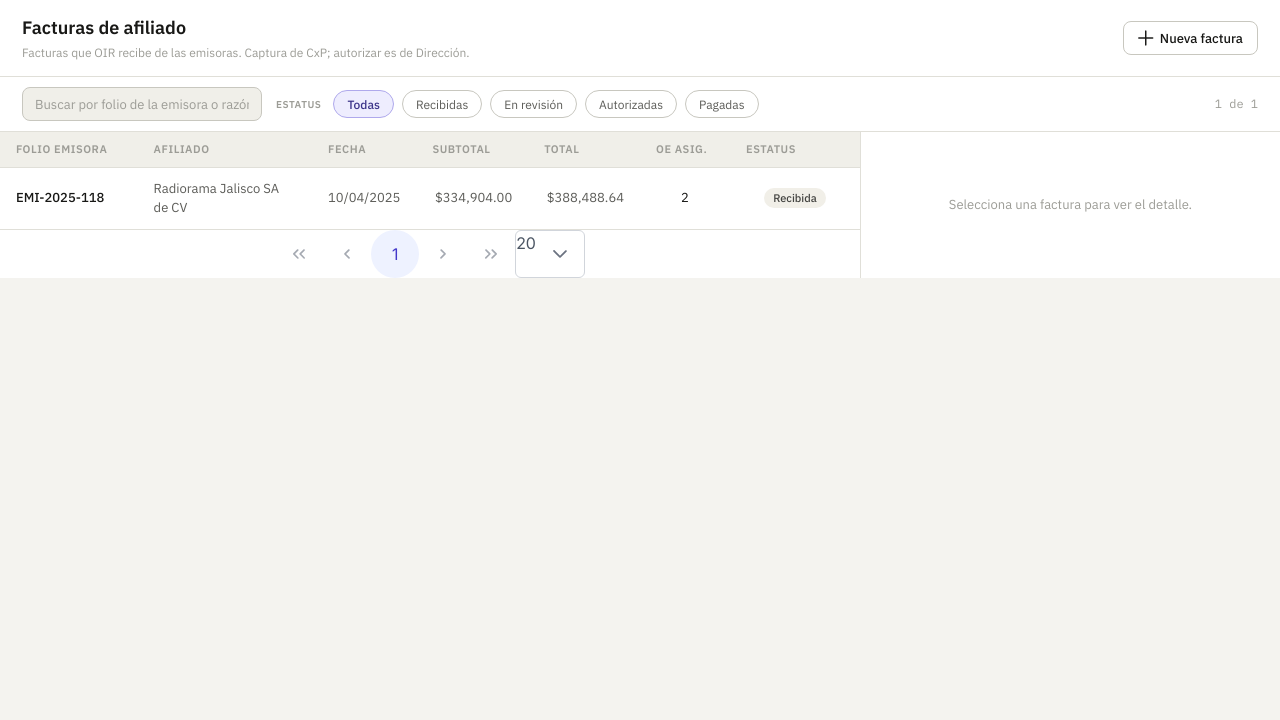
Test: FacturasAfiliadoPage — rediseño del detalle › en 'recibida' (la primera fase), ningún paso previo queda 'done'
Click the text "EMI-2025-118" at (69, 198), box 0,167 -> 138,229
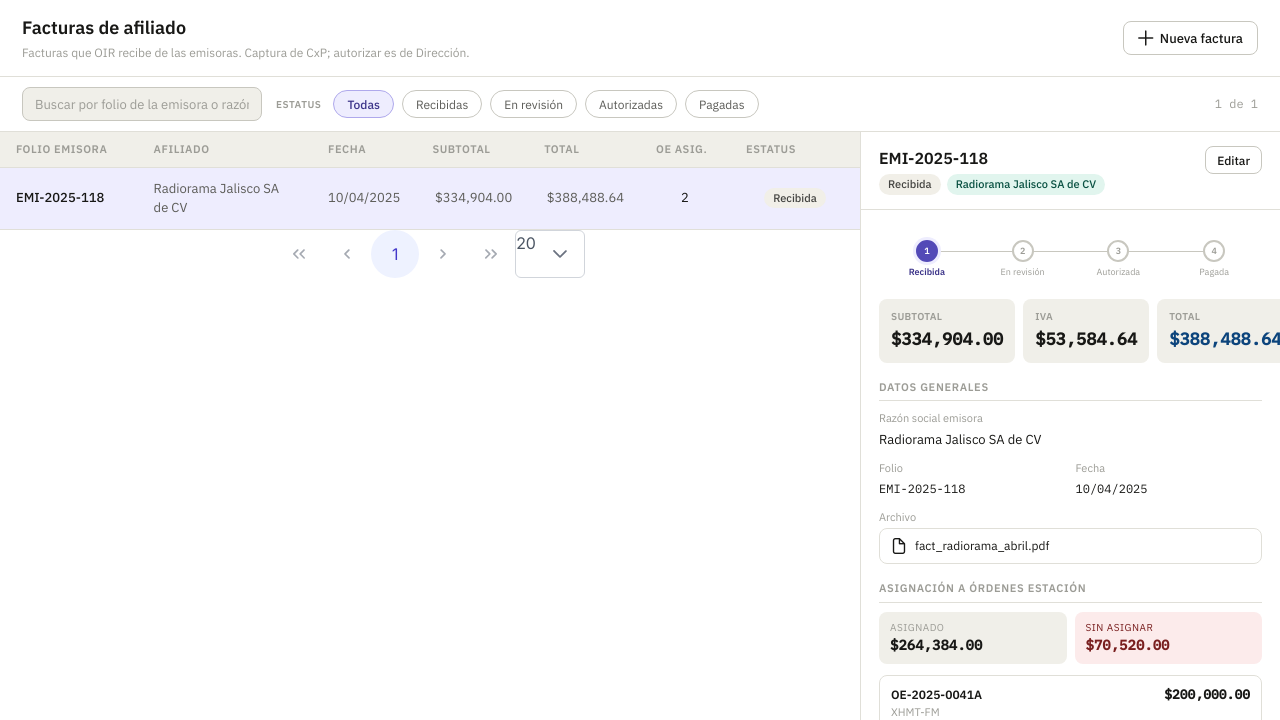
expect the text "Datos generales" is shown: met, box 879,379 -> 1262,401
